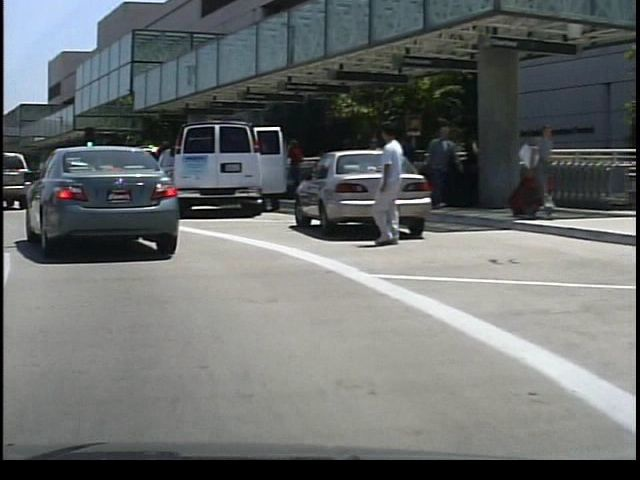person: (362, 118, 408, 247), (514, 117, 553, 221), (420, 122, 457, 210), (281, 134, 304, 198)
